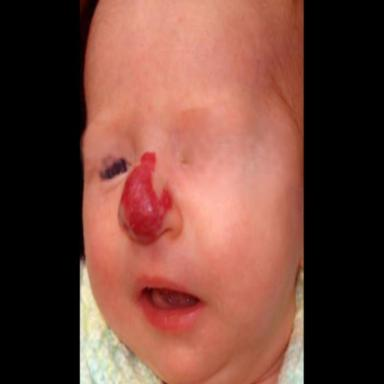Hemangiome: (121, 152, 172, 240)
